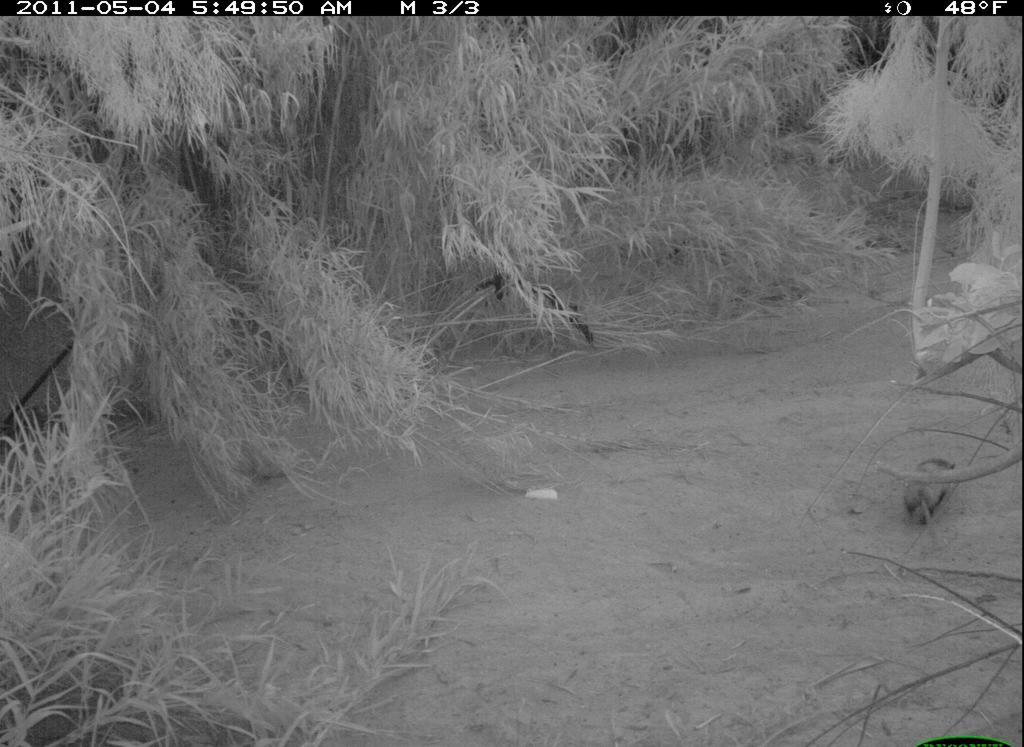opossum: (876, 443, 989, 534)
